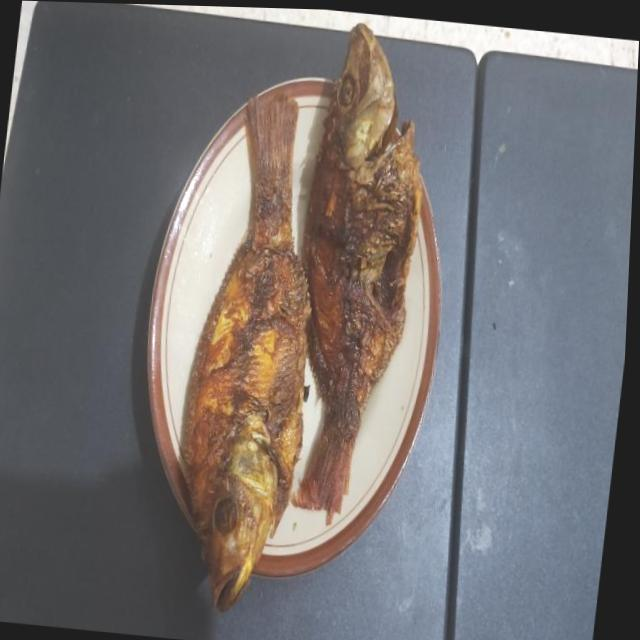ikan_mujair: (180, 94, 310, 612), (292, 23, 423, 524)
